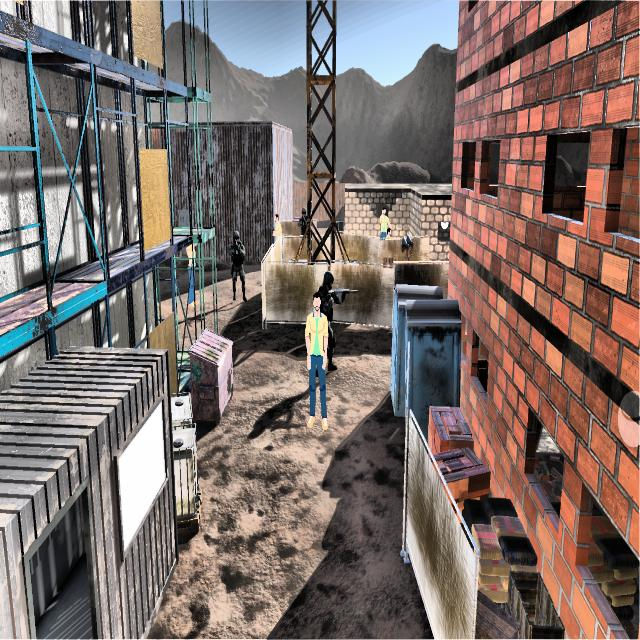bad: (314, 262, 347, 364), (227, 225, 250, 302), (296, 208, 309, 237)
good: (298, 290, 334, 434), (184, 242, 199, 318), (374, 202, 390, 242), (272, 211, 283, 243)
